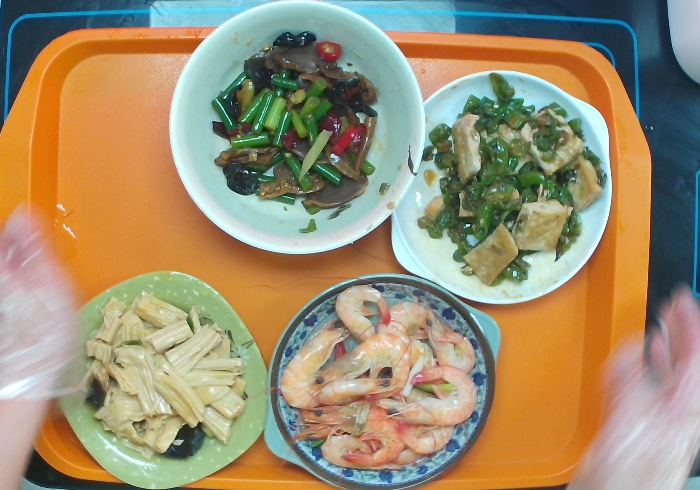NLDX-Bai_Se_Shuang_Er_Die: (382, 67, 618, 308)
NLDX-Bai_Se_Yuan_Wan: (162, 5, 438, 259)
NLDX-Lv_Hua_Fang_Die: (53, 270, 275, 490)
NLDX-Qing_Hua_Shuang_Er_Die: (260, 274, 503, 490)
